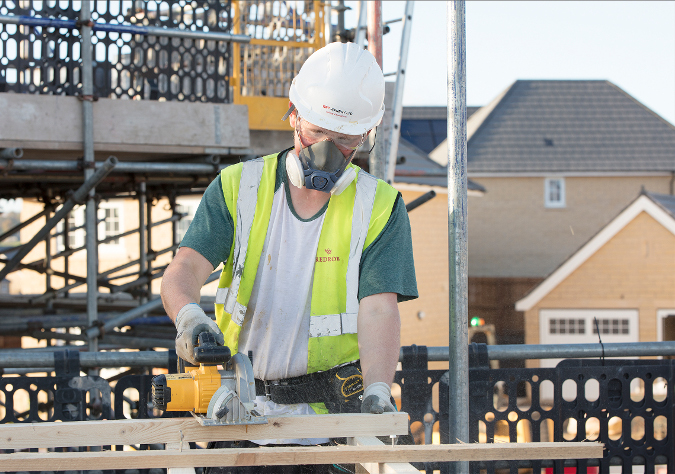Hard Hat: (286, 43, 387, 135)
High Viz: (306, 168, 371, 369), (214, 159, 273, 356)
